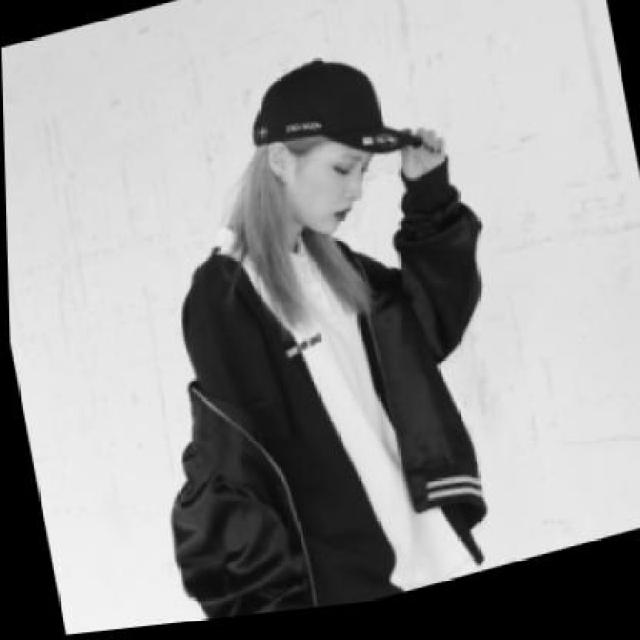hat: (234, 36, 420, 195)
